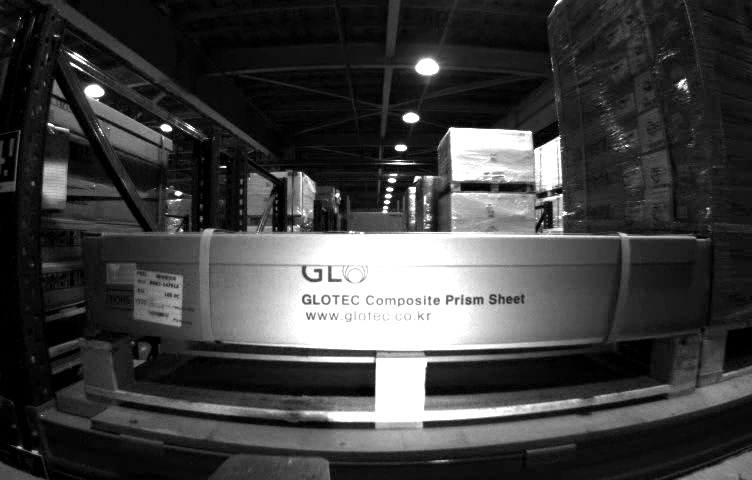True Barcode: (134, 267, 184, 330)
